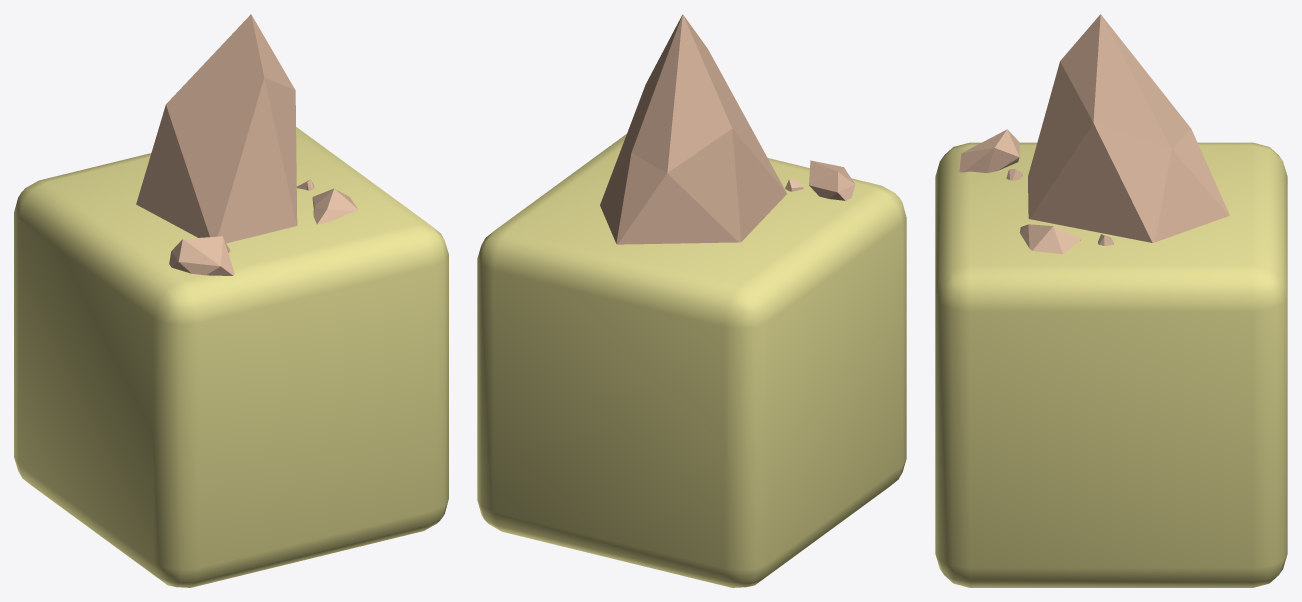
Rendered from mountain4.fbx.
3 views of the same model, side by side, from view 1: azimuth 30°, elevation 25°; view 2: azimuth 150°, elevation 25°; view 3: azimuth 270°, elevation 25° (orthographic). The views are drawn at different scales.
Parts seen in each view (by area): view 1: Cube.062, Icosphere.029, Icosphere.031, Icosphere.026; view 2: Cube.062, Icosphere.029, Icosphere.031; view 3: Cube.062, Icosphere.029, Icosphere.031, Icosphere.026.
Part boxes in pixels (bbox=[...]): Cube.062: bbox=[14, 127, 448, 587]; Icosphere.029: bbox=[136, 14, 297, 243]; Icosphere.031: bbox=[169, 236, 234, 275]; Icosphere.026: bbox=[312, 188, 357, 224]; Cube.062: bbox=[477, 134, 906, 587]; Icosphere.029: bbox=[600, 14, 786, 244]; Icosphere.031: bbox=[809, 160, 855, 200]; Cube.062: bbox=[935, 142, 1287, 587]; Icosphere.029: bbox=[1028, 14, 1229, 242]; Icosphere.031: bbox=[959, 129, 1019, 172]; Icosphere.026: bbox=[1019, 224, 1081, 254].
Bounding box in the file's own units: 200 × 324 × 200.
